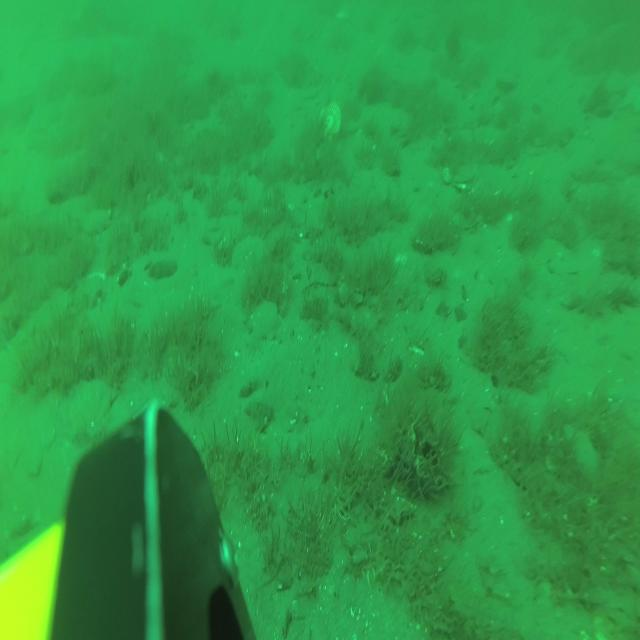scallop: (70, 379, 112, 428), (444, 161, 480, 192), (247, 304, 280, 336), (319, 104, 341, 142), (84, 209, 112, 235)
